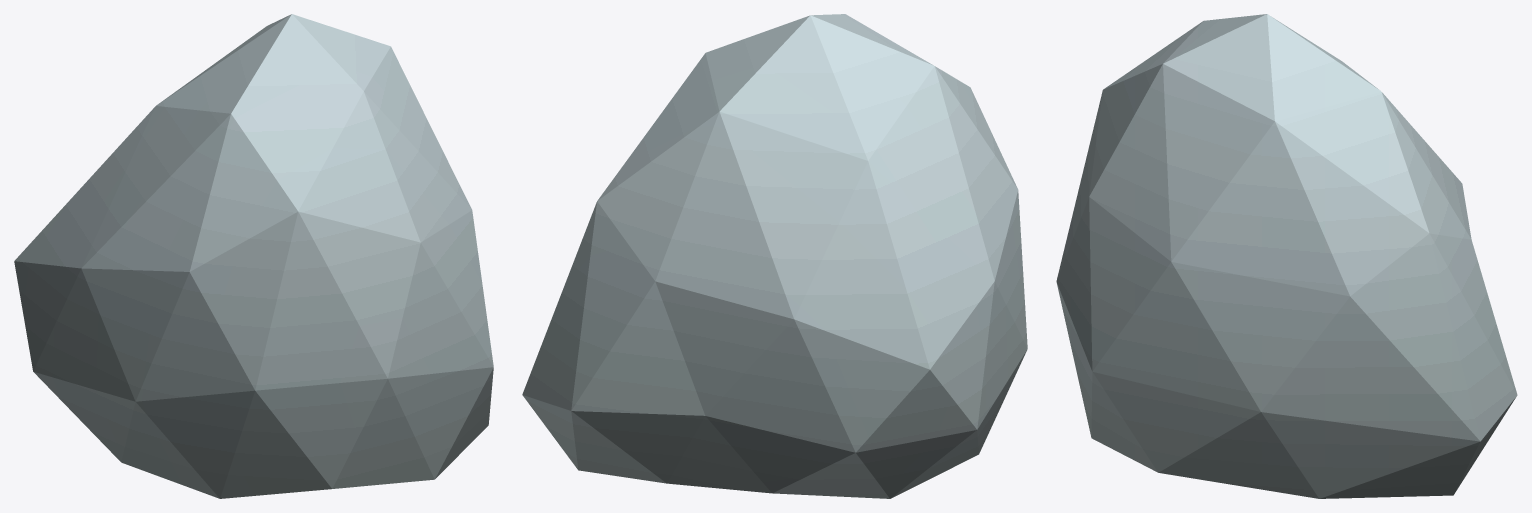
The picture shows the model from 3 angles, left to right: view 1: azimuth 30°, elevation 25°; view 2: azimuth 150°, elevation 25°; view 3: azimuth 270°, elevation 25°; orthographic projection. The views are drawn at different scales.
Parts seen in each view (by area): view 1: Bush_01; view 2: Bush_01; view 3: Bush_01.
Boxes of the visible parts, left/top/right/bottom form: Bush_01: left=14, top=14, right=493, bottom=498; Bush_01: left=522, top=14, right=1027, bottom=498; Bush_01: left=1056, top=14, right=1517, bottom=498.
Bounding box in the file's own units: 79.91 × 82.93 × 82.63.
